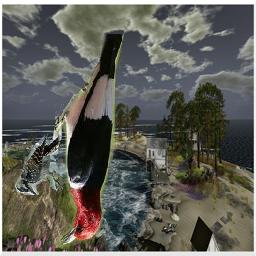Woodpecker: (55, 35, 125, 250), (15, 135, 64, 196)
